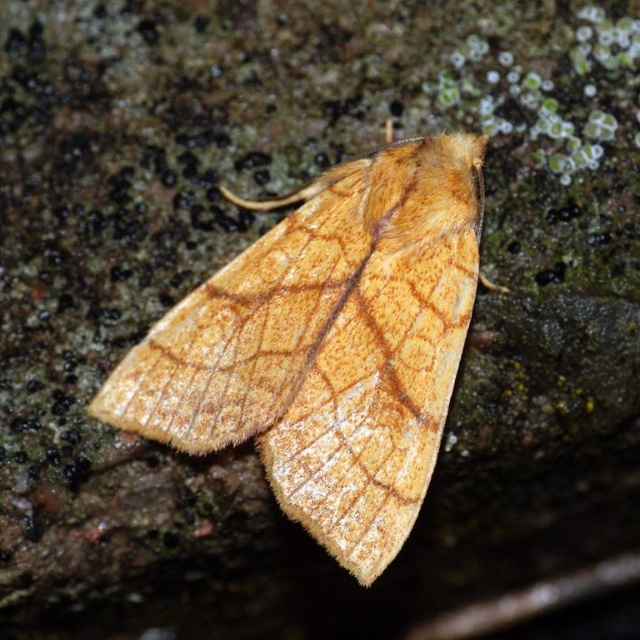Moths and butterflies: (87, 114, 518, 592)
